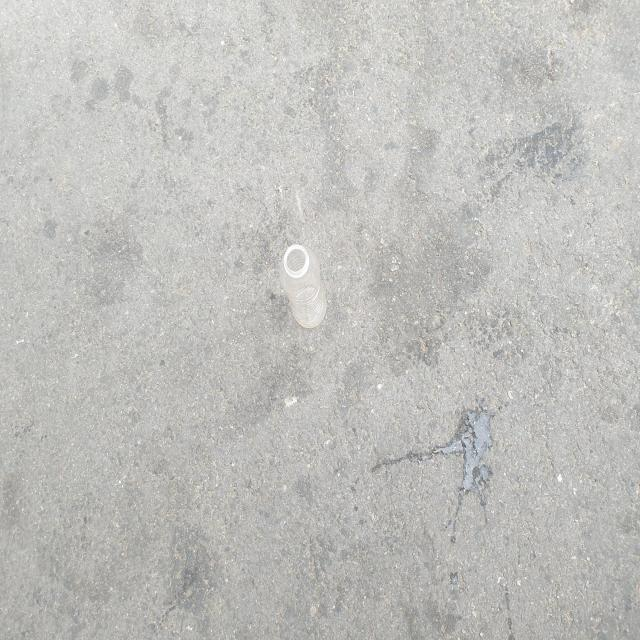plastic: (280, 244, 327, 328)
